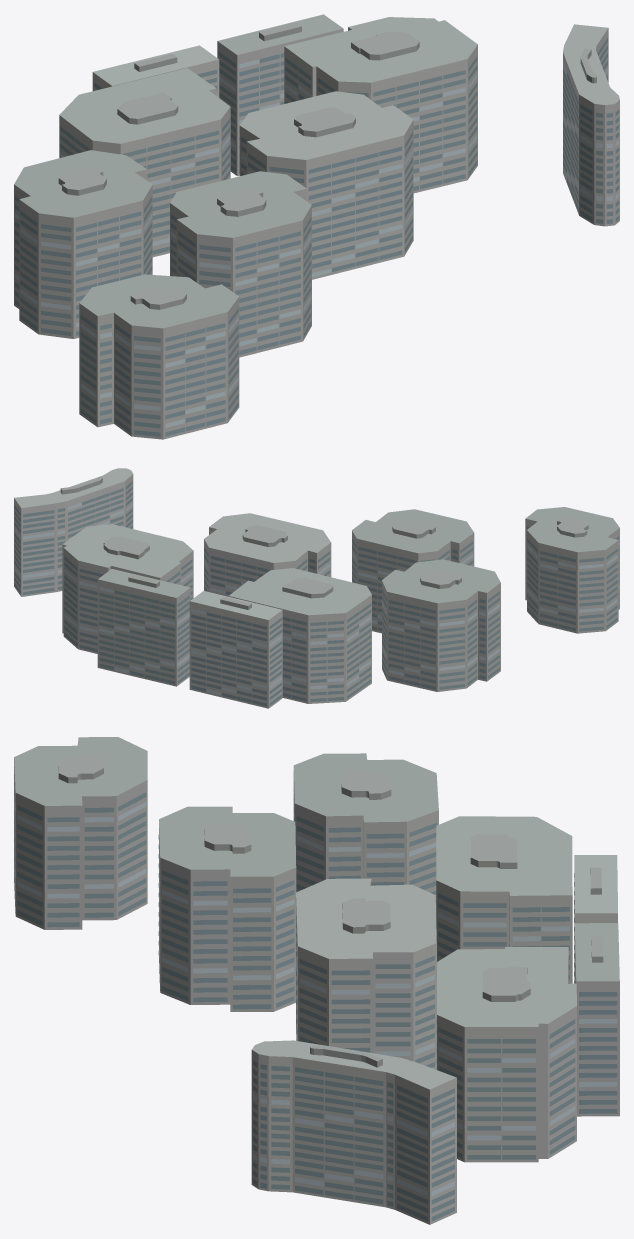
Rendered from apt-a11005401.glb.
3 views of the same model, one above another, from view 1: azimuth 30°, elevation 25°; view 2: azimuth 150°, elevation 25°; view 3: azimuth 270°, elevation 25° (orthographic). The views are drawn at different scales.
Parts seen in each view (by area): view 1: apt-a11005401; view 2: apt-a11005401; view 3: apt-a11005401.
Part boxes in pixels (box(x1,y1,x2,y2)): apt-a11005401: box(14, 14, 619, 439); apt-a11005401: box(14, 468, 619, 708); apt-a11005401: box(14, 737, 619, 1224).
Size of the model in its own units: 264 by 48 by 186.
